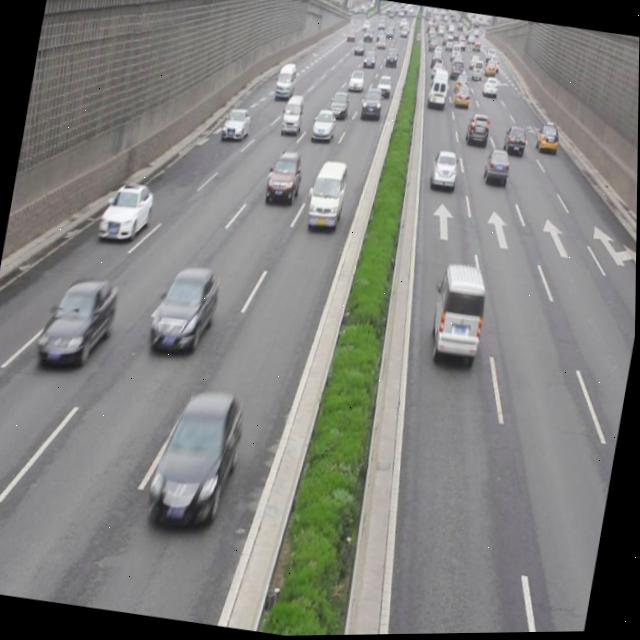car: (147, 386, 249, 532), (39, 277, 121, 370), (148, 263, 223, 360), (97, 182, 157, 247), (265, 148, 306, 205), (427, 148, 460, 196), (480, 144, 512, 192), (500, 124, 529, 161), (463, 112, 491, 150), (221, 108, 253, 141), (535, 121, 560, 159), (311, 109, 337, 144)
truck: (425, 258, 491, 372), (304, 157, 352, 232), (281, 93, 306, 135)
